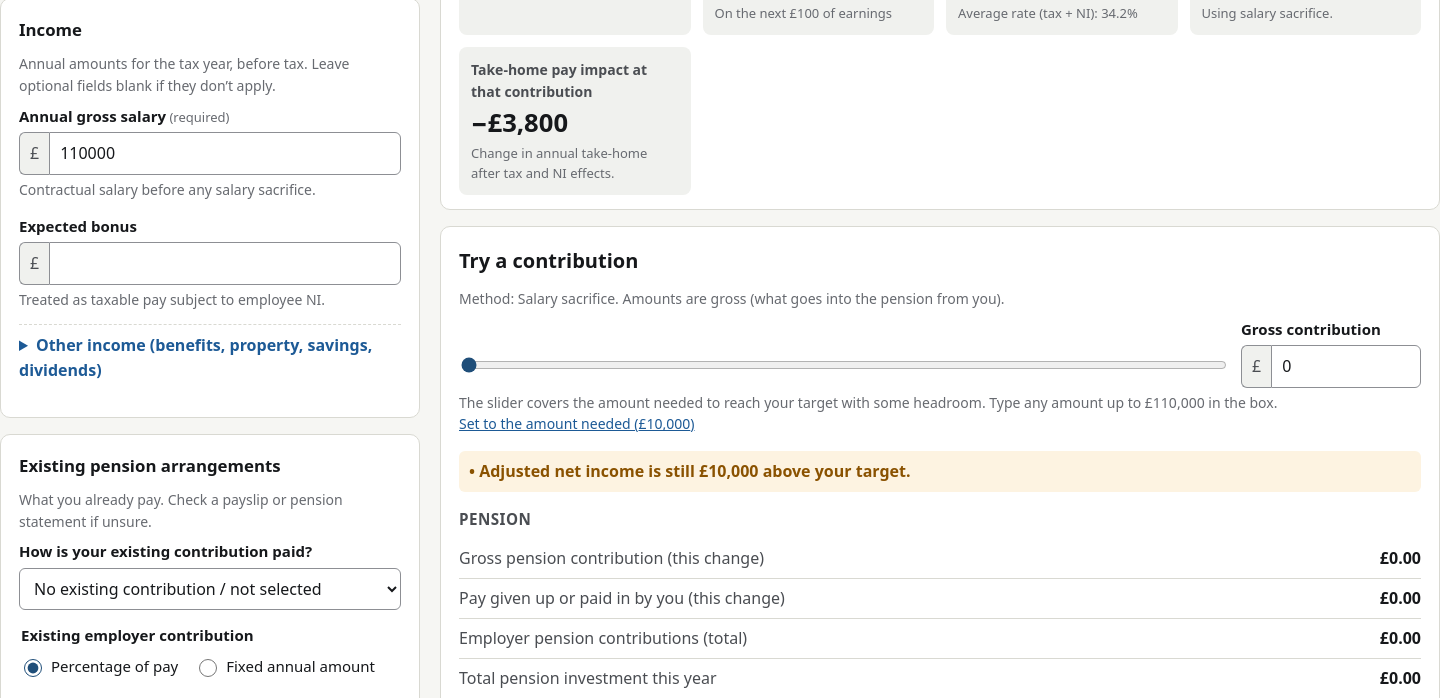
Scenario: calculator UI › slider and numeric input stay in sync and do not change other inputs
Later steps or results of the test are not shown.
(page scrolled)
Step 1. Set the slider named "slider" to "10000" → [1046, 365], box [461,344,1227,386]
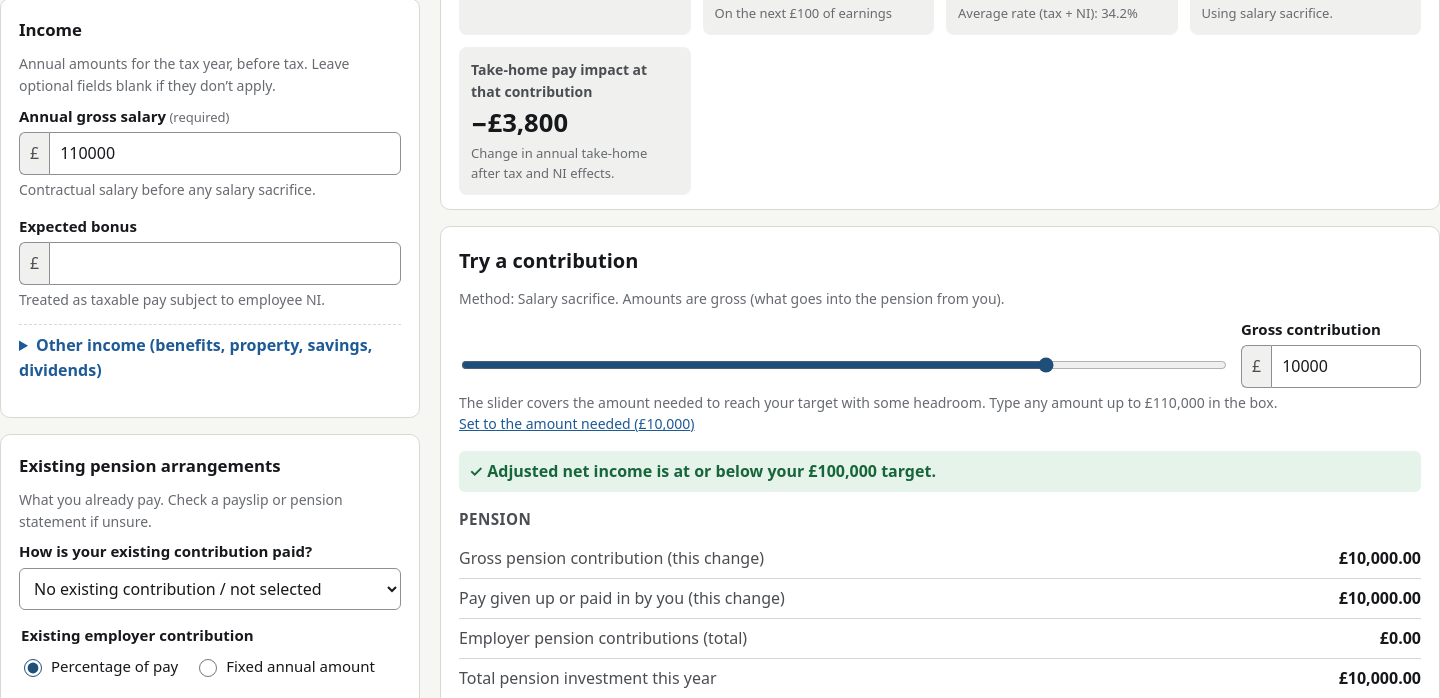
Expected: the field labelled "Gross contribution" holds "10000", [1271,345,1421,388]
Expected: the text with test id "slider-gross" reads "£10,000.00", [1339,547,1421,569]
